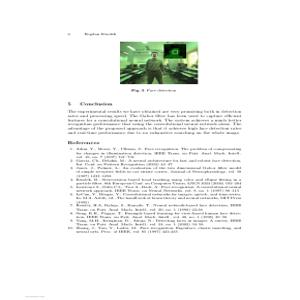image: (118, 37, 200, 86)
text: (65, 100, 242, 234)
